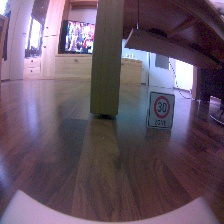dreisiger_zone: (147, 90, 175, 131)
